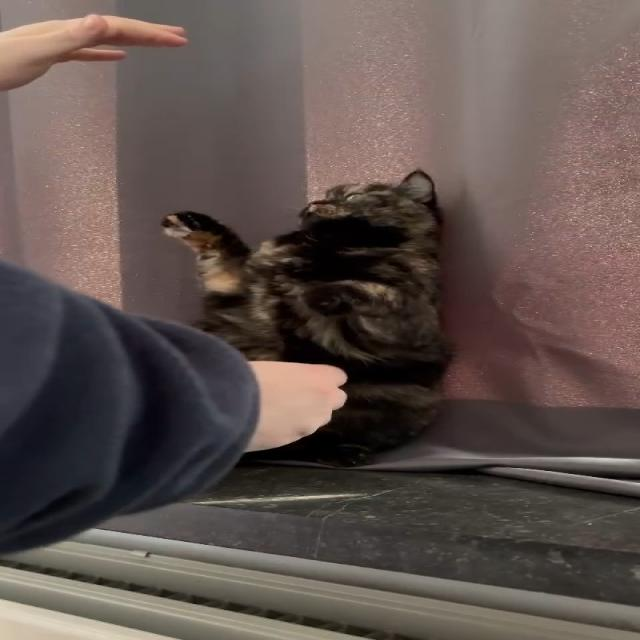authorized: (159, 167, 456, 468)
